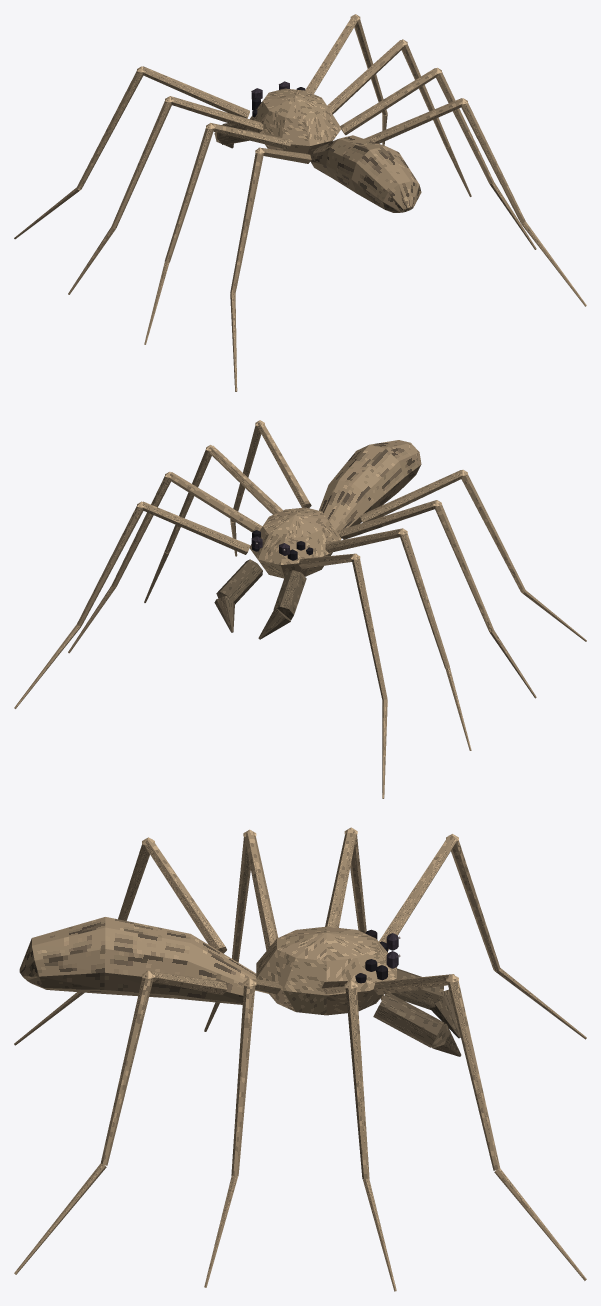
Rendered from mon_spider_cellar_small.glb.
The picture shows the model from 3 angles, top to bottom: view 1: azimuth 30°, elevation 25°; view 2: azimuth 150°, elevation 25°; view 3: azimuth 270°, elevation 25°; orthographic projection. The views are drawn at different scales.
Parts seen in each view (by area): view 1: closed_body; view 2: closed_body; view 3: closed_body.
Boxes of the visible parts, box(x1,y1,x2,y2) form: closed_body: box(14, 14, 586, 391); closed_body: box(14, 420, 586, 798); closed_body: box(14, 827, 586, 1291).
Bounding box in the file's own units: 2 × 0.9012 × 1.83.
1 material, 1 textured.
